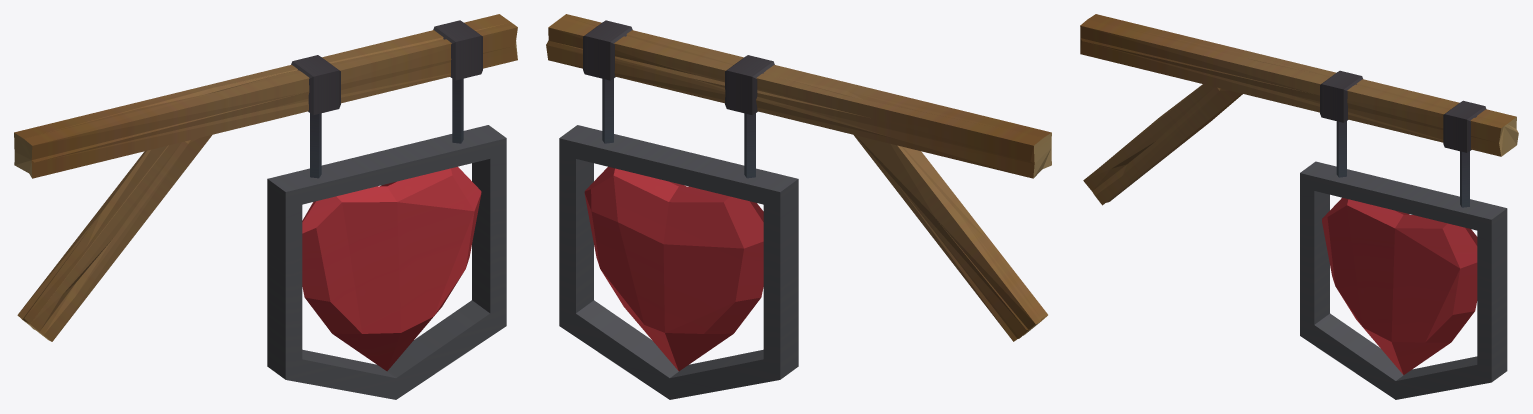
The model's file is SignBoard_7.fbx.
3 renders of one model, left to right at view 1: azimuth 30°, elevation 25°; view 2: azimuth 150°, elevation 25°; view 3: azimuth 330°, elevation 25°, orthographic. The views are drawn at different scales.
Parts seen in each view (by area): view 1: polySurface10659; view 2: polySurface10659; view 3: polySurface10659.
Boxes of the visible parts, box(x1,y1,x2,y2) form: polySurface10659: box(14, 14, 517, 399); polySurface10659: box(546, 14, 1051, 399); polySurface10659: box(1080, 14, 1518, 399).
Bounding box in the file's own units: 309 × 209 × 32.16.
